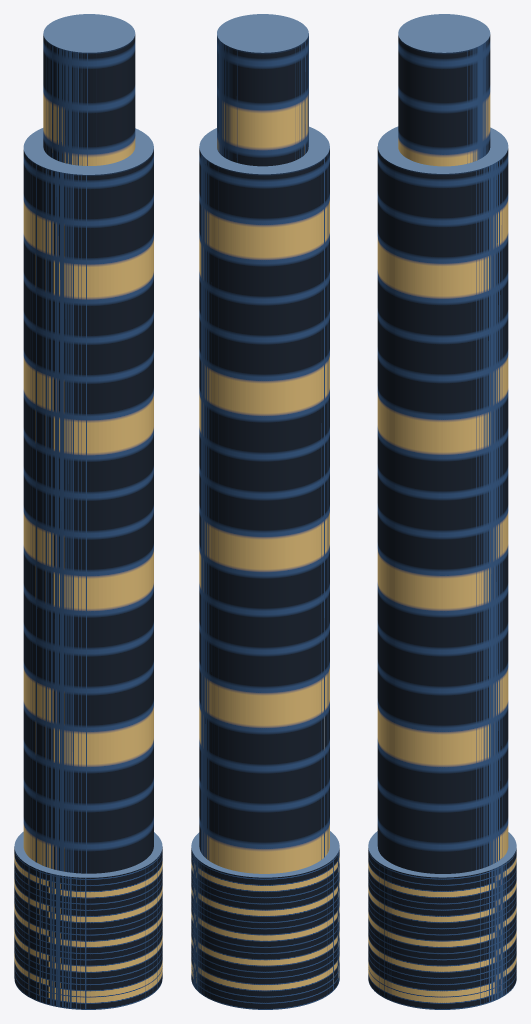
The model's file is one-park-drive.glb.
The picture shows the model from 3 angles, left to right: view 1: azimuth 30°, elevation 25°; view 2: azimuth 150°, elevation 25°; view 3: azimuth 270°, elevation 25°; orthographic projection.
Parts seen in each view (by area): view 1: one-park-drive; view 2: one-park-drive; view 3: one-park-drive.
Part boxes in pixels (box(x1,y1,x2,y2)): one-park-drive: box(14, 14, 162, 1009); one-park-drive: box(191, 14, 339, 1009); one-park-drive: box(368, 14, 516, 1009).
Bounding box in the file's own units: 0.3924 × 2.76 × 0.3924.
Materials: 2 (1 with a texture image).
